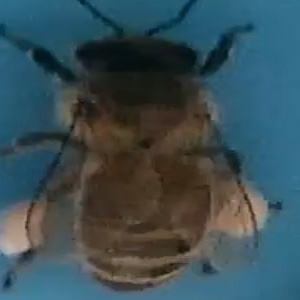bee: (7, 1, 280, 295)
